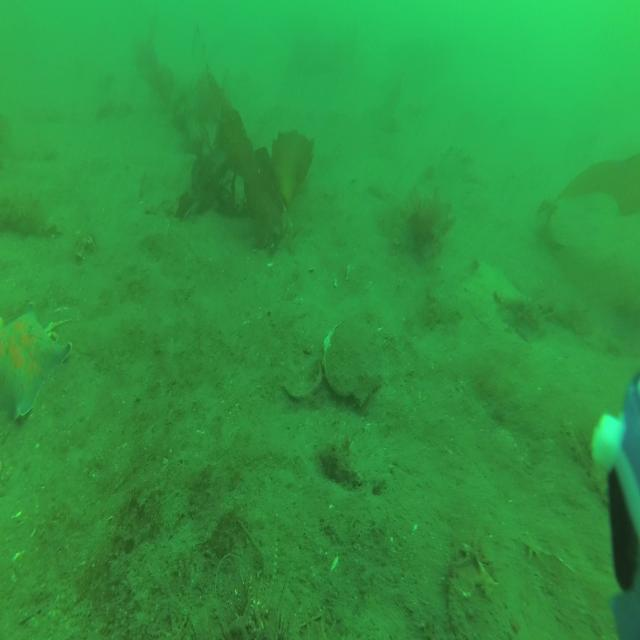scallop: (323, 323, 382, 406)
starfish: (0, 301, 72, 425)
